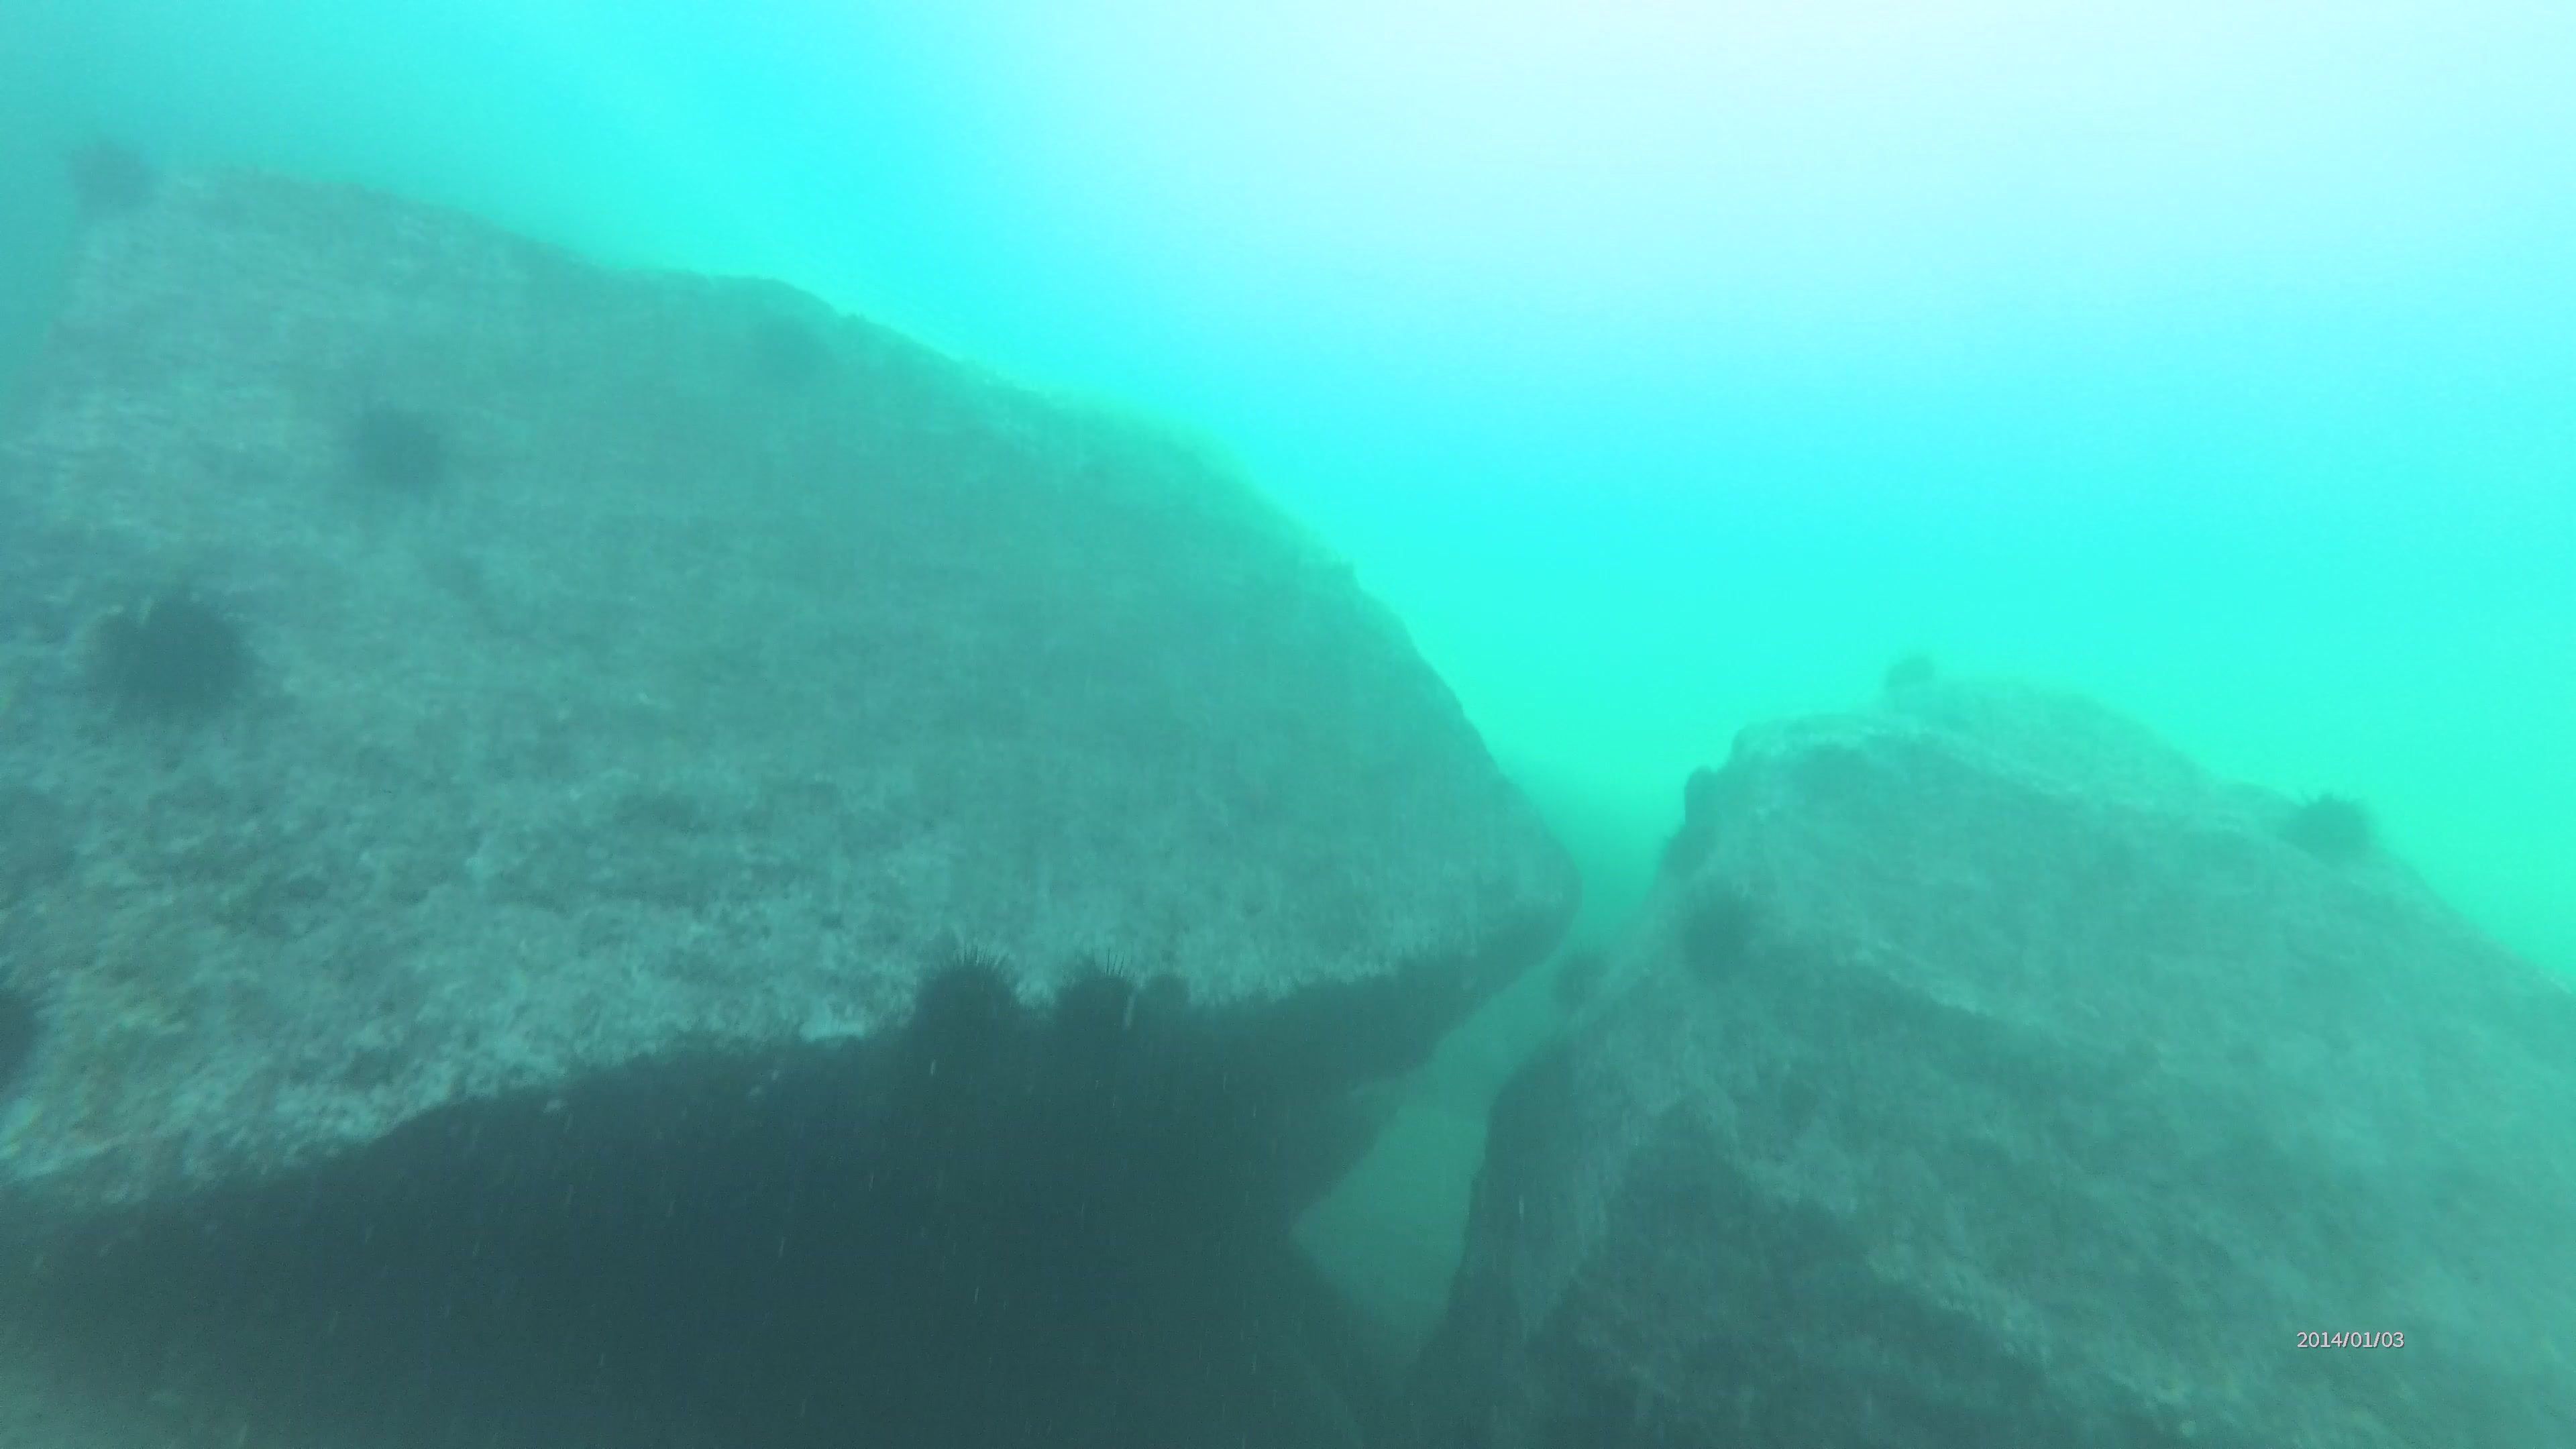echinus: (87, 573, 280, 736), (906, 943, 1028, 1077), (44, 124, 172, 223), (350, 387, 460, 497), (1665, 870, 1773, 982), (1049, 938, 1139, 1070), (2273, 786, 2381, 876), (748, 315, 835, 395), (1642, 805, 1718, 879), (1557, 934, 1612, 1010), (1872, 644, 1944, 699)
